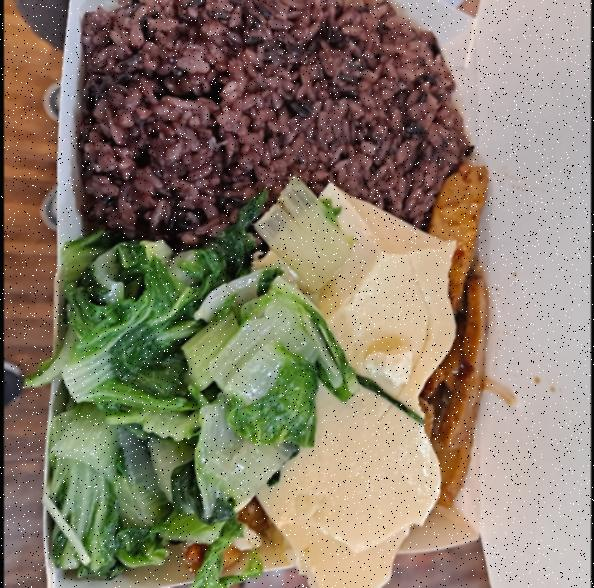box: (27, 0, 508, 588)
purple rice: (66, 0, 466, 257)
side dish: (42, 211, 351, 588), (262, 180, 456, 587), (417, 171, 494, 528)
